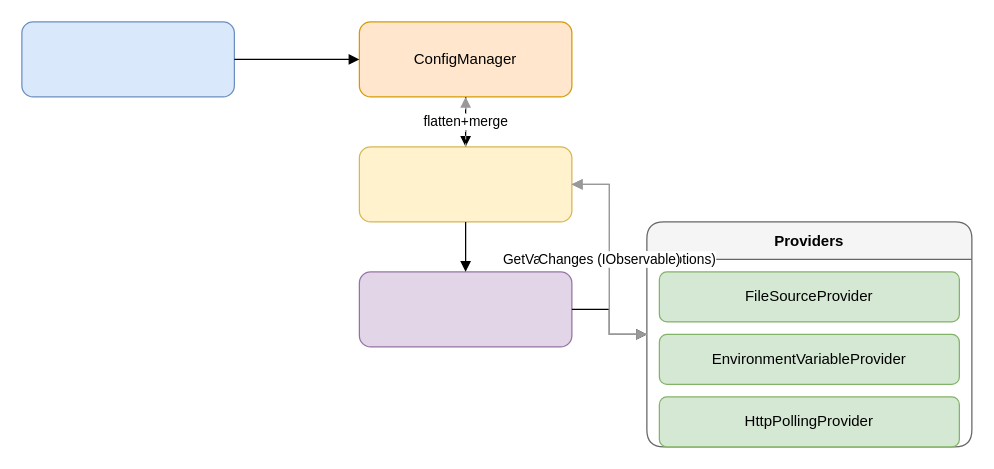
Image size: 994x469. Some labels were removed from this diagram. The shapes that lost their labels are listed below. From the top down, each one's centre as x and y in pixels, then its label:
[127,59]: App / DI Consumers
[465,184]: RuleManager (per rule)
[465,309]: ProviderRegistry
